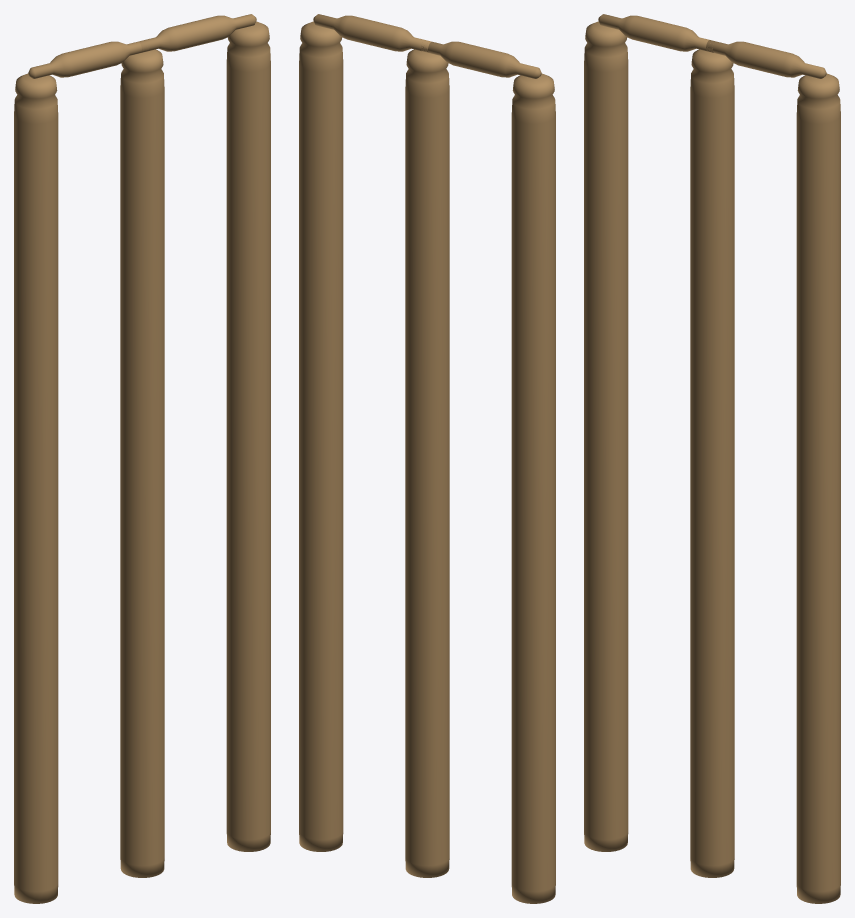
File: stumps.glb
3 renders of one model, left to right at view 1: azimuth 30°, elevation 25°; view 2: azimuth 150°, elevation 25°; view 3: azimuth 330°, elevation 25°, orthographic.
Parts seen in each view (by area): view 1: StumpOff, StumpMiddle, StumpLeg, BailLeg, BailOff; view 2: StumpOff, StumpMiddle, StumpLeg, BailLeg, BailOff; view 3: StumpLeg, StumpMiddle, StumpOff, BailLeg, BailOff.
Part boxes in pixels (left/top/right/bottom): StumpOff: left=14, top=73, right=58, bottom=903; StumpMiddle: left=120, top=49, right=164, bottom=877; StumpLeg: left=226, top=21, right=270, bottom=851; BailLeg: left=138, top=14, right=256, bottom=52; BailOff: left=28, top=41, right=148, bottom=78; StumpOff: left=511, top=73, right=555, bottom=903; StumpMiddle: left=405, top=49, right=449, bottom=877; StumpLeg: left=299, top=21, right=343, bottom=851; BailLeg: left=313, top=14, right=431, bottom=51; BailOff: left=421, top=41, right=541, bottom=78; StumpLeg: left=796, top=73, right=840, bottom=903; StumpMiddle: left=690, top=49, right=734, bottom=877; StumpOff: left=584, top=21, right=628, bottom=851; BailLeg: left=706, top=40, right=826, bottom=78; BailOff: left=598, top=14, right=713, bottom=52.
Size of the model in its own units: 6.35 by 20.14 by 0.9716.
